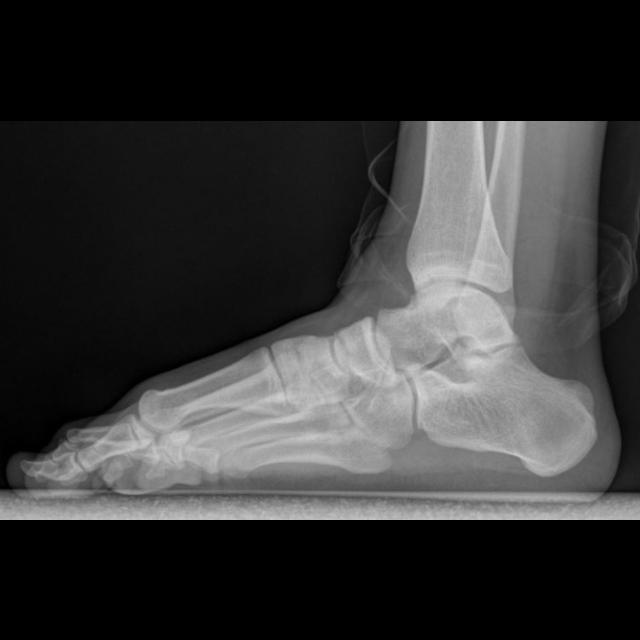a: (409, 344, 597, 477)
b: (330, 314, 395, 386)
c: (137, 344, 289, 430)
